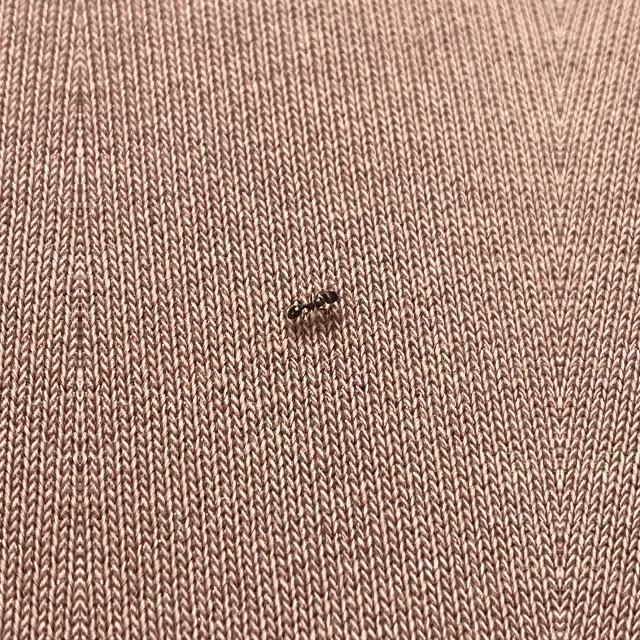Tetramorium: (271, 280, 353, 330)
